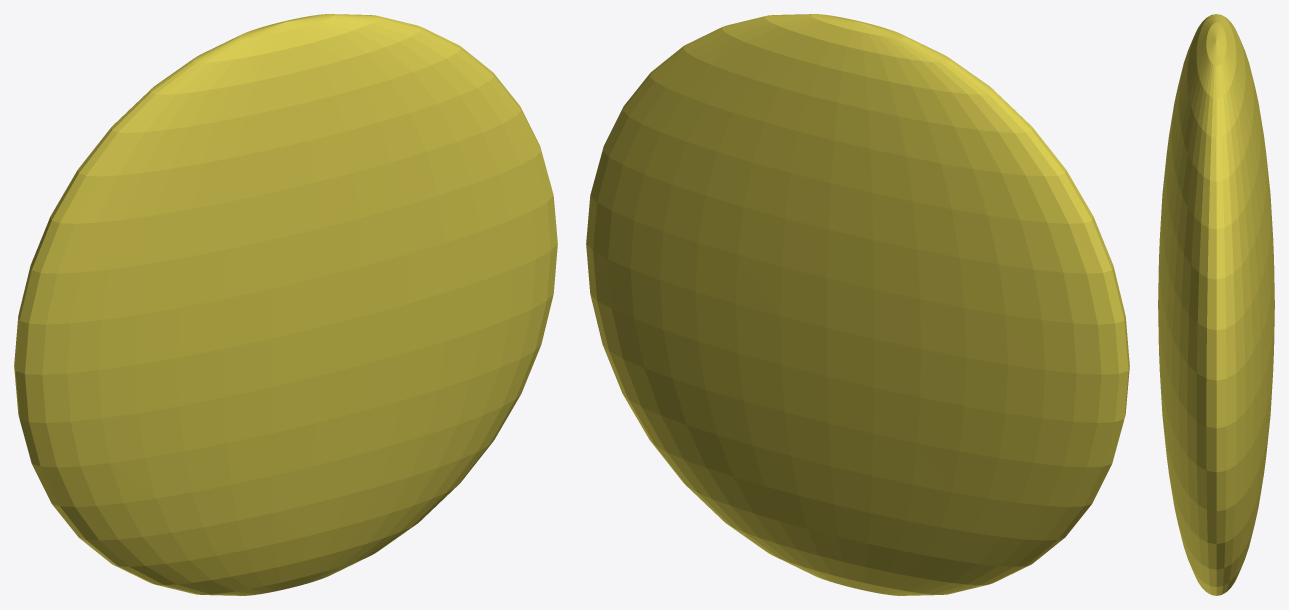
The model's file is Amazing Kasi.glb.
3 renders of one model, left to right at view 1: azimuth 30°, elevation 25°; view 2: azimuth 150°, elevation 25°; view 3: azimuth 270°, elevation 25°, orthographic. The views are drawn at different scales.
Parts seen in each view (by area): view 1: Mesh_Mesh_head_geo.001_lambert2SG.001; view 2: Mesh_Mesh_head_geo.001_lambert2SG.001; view 3: Mesh_Mesh_head_geo.001_lambert2SG.001.
Part boxes in pixels (box(x1,y1,x2,y2)): Mesh_Mesh_head_geo.001_lambert2SG.001: box(14, 14, 557, 595); Mesh_Mesh_head_geo.001_lambert2SG.001: box(586, 14, 1129, 595); Mesh_Mesh_head_geo.001_lambert2SG.001: box(1158, 14, 1274, 595).
Size of the model in its own units: 20 by 20 by 4.
